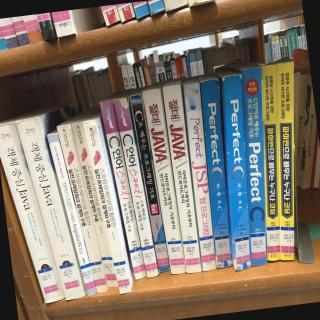book-spine: (16, 116, 86, 301), (0, 121, 65, 305), (57, 124, 108, 293), (83, 120, 131, 295), (113, 97, 159, 278), (70, 120, 119, 289), (100, 100, 146, 280), (142, 89, 186, 275), (47, 134, 97, 296), (163, 85, 203, 273), (130, 94, 170, 272), (182, 83, 216, 272), (201, 79, 233, 268), (240, 67, 267, 266), (224, 75, 250, 270), (261, 64, 280, 261), (277, 62, 294, 260)
